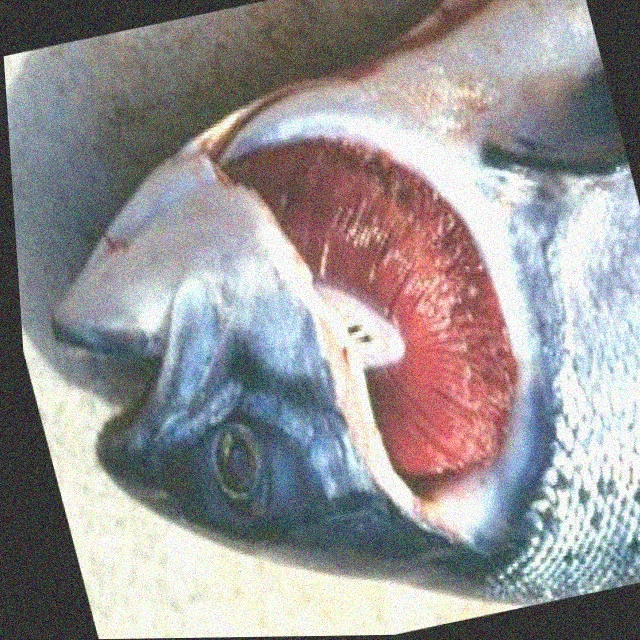Gill Disease: (190, 35, 600, 571)
